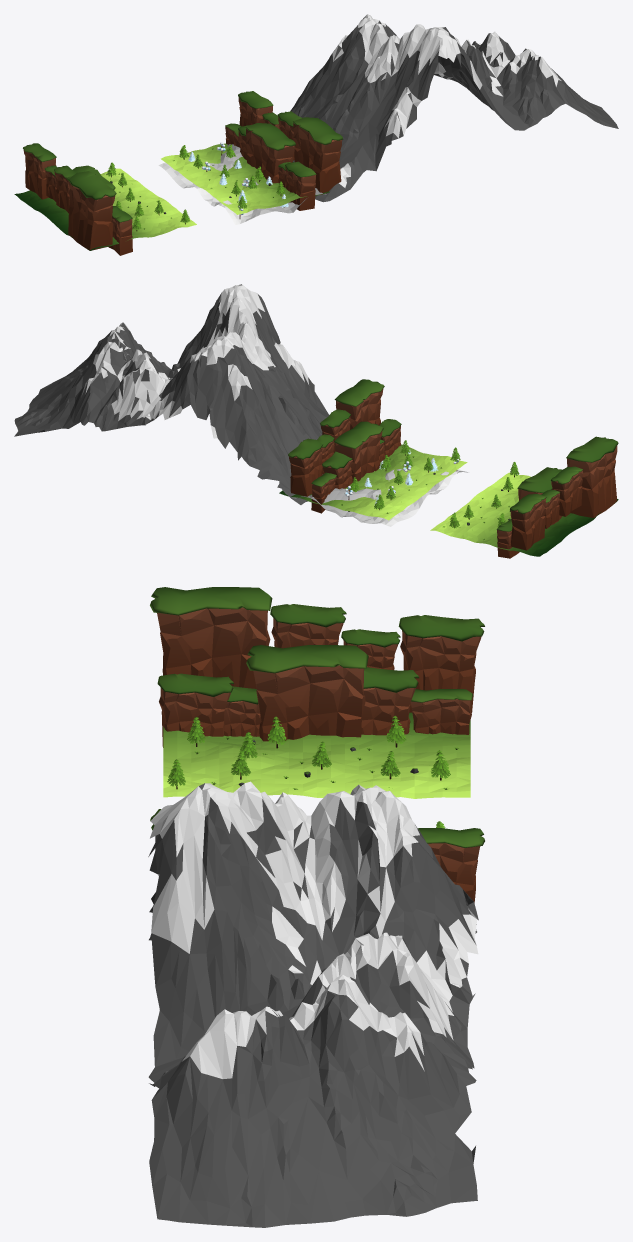
The model's file is grassNsnow.glb.
3 views of the same model, one above another, from view 1: azimuth 30°, elevation 25°; view 2: azimuth 150°, elevation 25°; view 3: azimuth 270°, elevation 25° (orthographic). The views are drawn at different scales.
Visible parts, largest first — view 1: Safaid jhaat, Green Jhaat; view 2: Safaid jhaat, Green Jhaat; view 3: Safaid jhaat, Green Jhaat.
Boxes of the visible parts, box(x1,y1,x2,y2) form: Safaid jhaat: box(158, 14, 618, 224); Green Jhaat: box(14, 91, 343, 255); Safaid jhaat: box(14, 284, 468, 526); Green Jhaat: box(279, 379, 618, 558); Safaid jhaat: box(148, 781, 478, 1227); Green Jhaat: box(150, 587, 484, 902).
Bounding box in the file's own units: 403 × 106 × 110.
4 materials, 2 textured.
